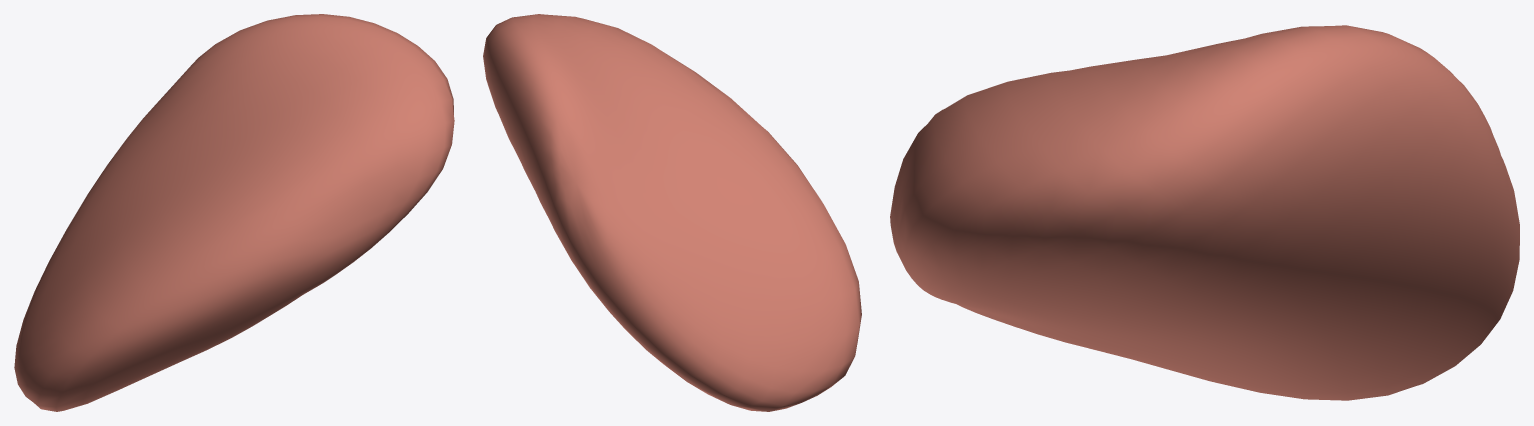
The picture shows the model from 3 angles, left to right: view 1: azimuth 30°, elevation 25°; view 2: azimuth 150°, elevation 25°; view 3: azimuth 270°, elevation 25°; orthographic projection. The views are drawn at different scales.
Parts seen in each view (by area): view 1: 右侧梨状肌囊; view 2: 右侧梨状肌囊; view 3: 右侧梨状肌囊.
Part boxes in pixels (x1=…): 右侧梨状肌囊: x1=14, y1=14, x2=454, y2=411; 右侧梨状肌囊: x1=483, y1=14, x2=861, y2=411; 右侧梨状肌囊: x1=890, y1=25, x2=1519, y2=400.
Bounding box in the file's own units: 0.0159 × 0.0122 × 0.0117.
